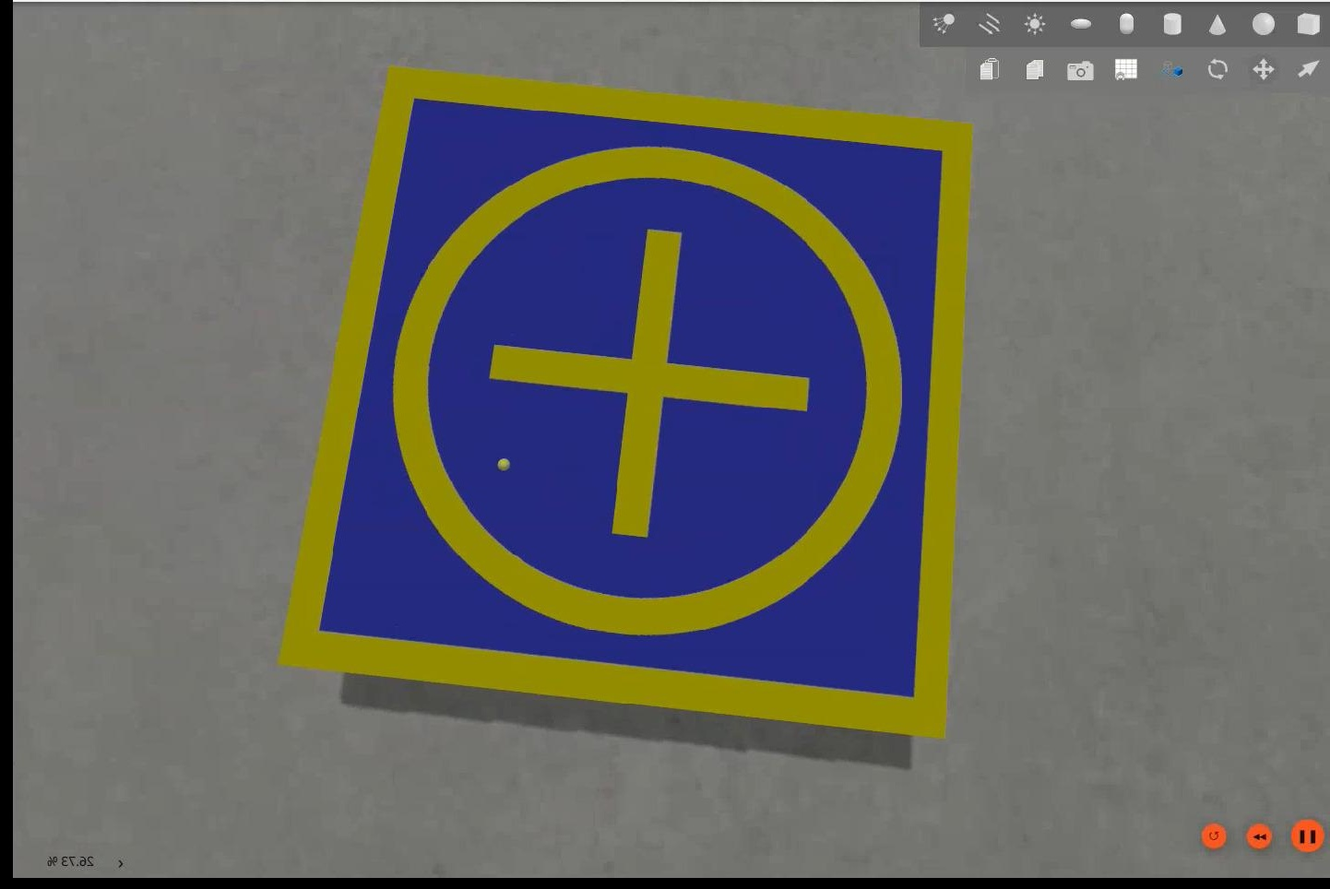small_base: (273, 71, 980, 746)
